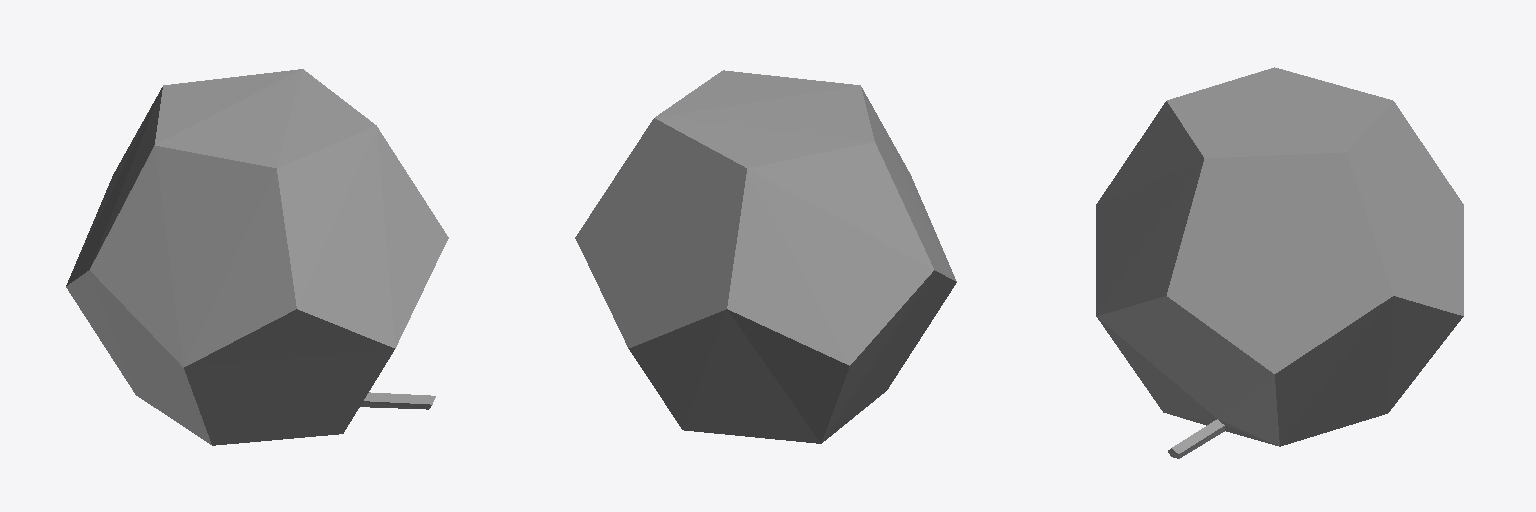
The model's file is arenaSP.obj.
3 views of the same model, side by side, from view 1: azimuth 30°, elevation 25°; view 2: azimuth 150°, elevation 25°; view 3: azimuth 270°, elevation 25° (orthographic).
Parts seen in each view (by area): view 1: Arena_Sphere_Icosphere, Tunnel_Icosphere.002; view 2: Arena_Sphere_Icosphere; view 3: Arena_Sphere_Icosphere, Tunnel_Icosphere.002.
Boxes of the visible parts, x1=… form: Arena_Sphere_Icosphere: x1=66, y1=69, x2=448, y2=445; Tunnel_Icosphere.002: x1=360, y1=392, x2=435, y2=409; Arena_Sphere_Icosphere: x1=575, y1=70, x2=956, y2=443; Arena_Sphere_Icosphere: x1=1096, y1=67, x2=1463, y2=446; Tunnel_Icosphere.002: x1=1168, y1=419, x2=1224, y2=458.
Size of the model in its own units: 1.56 by 1.28 by 1.49.